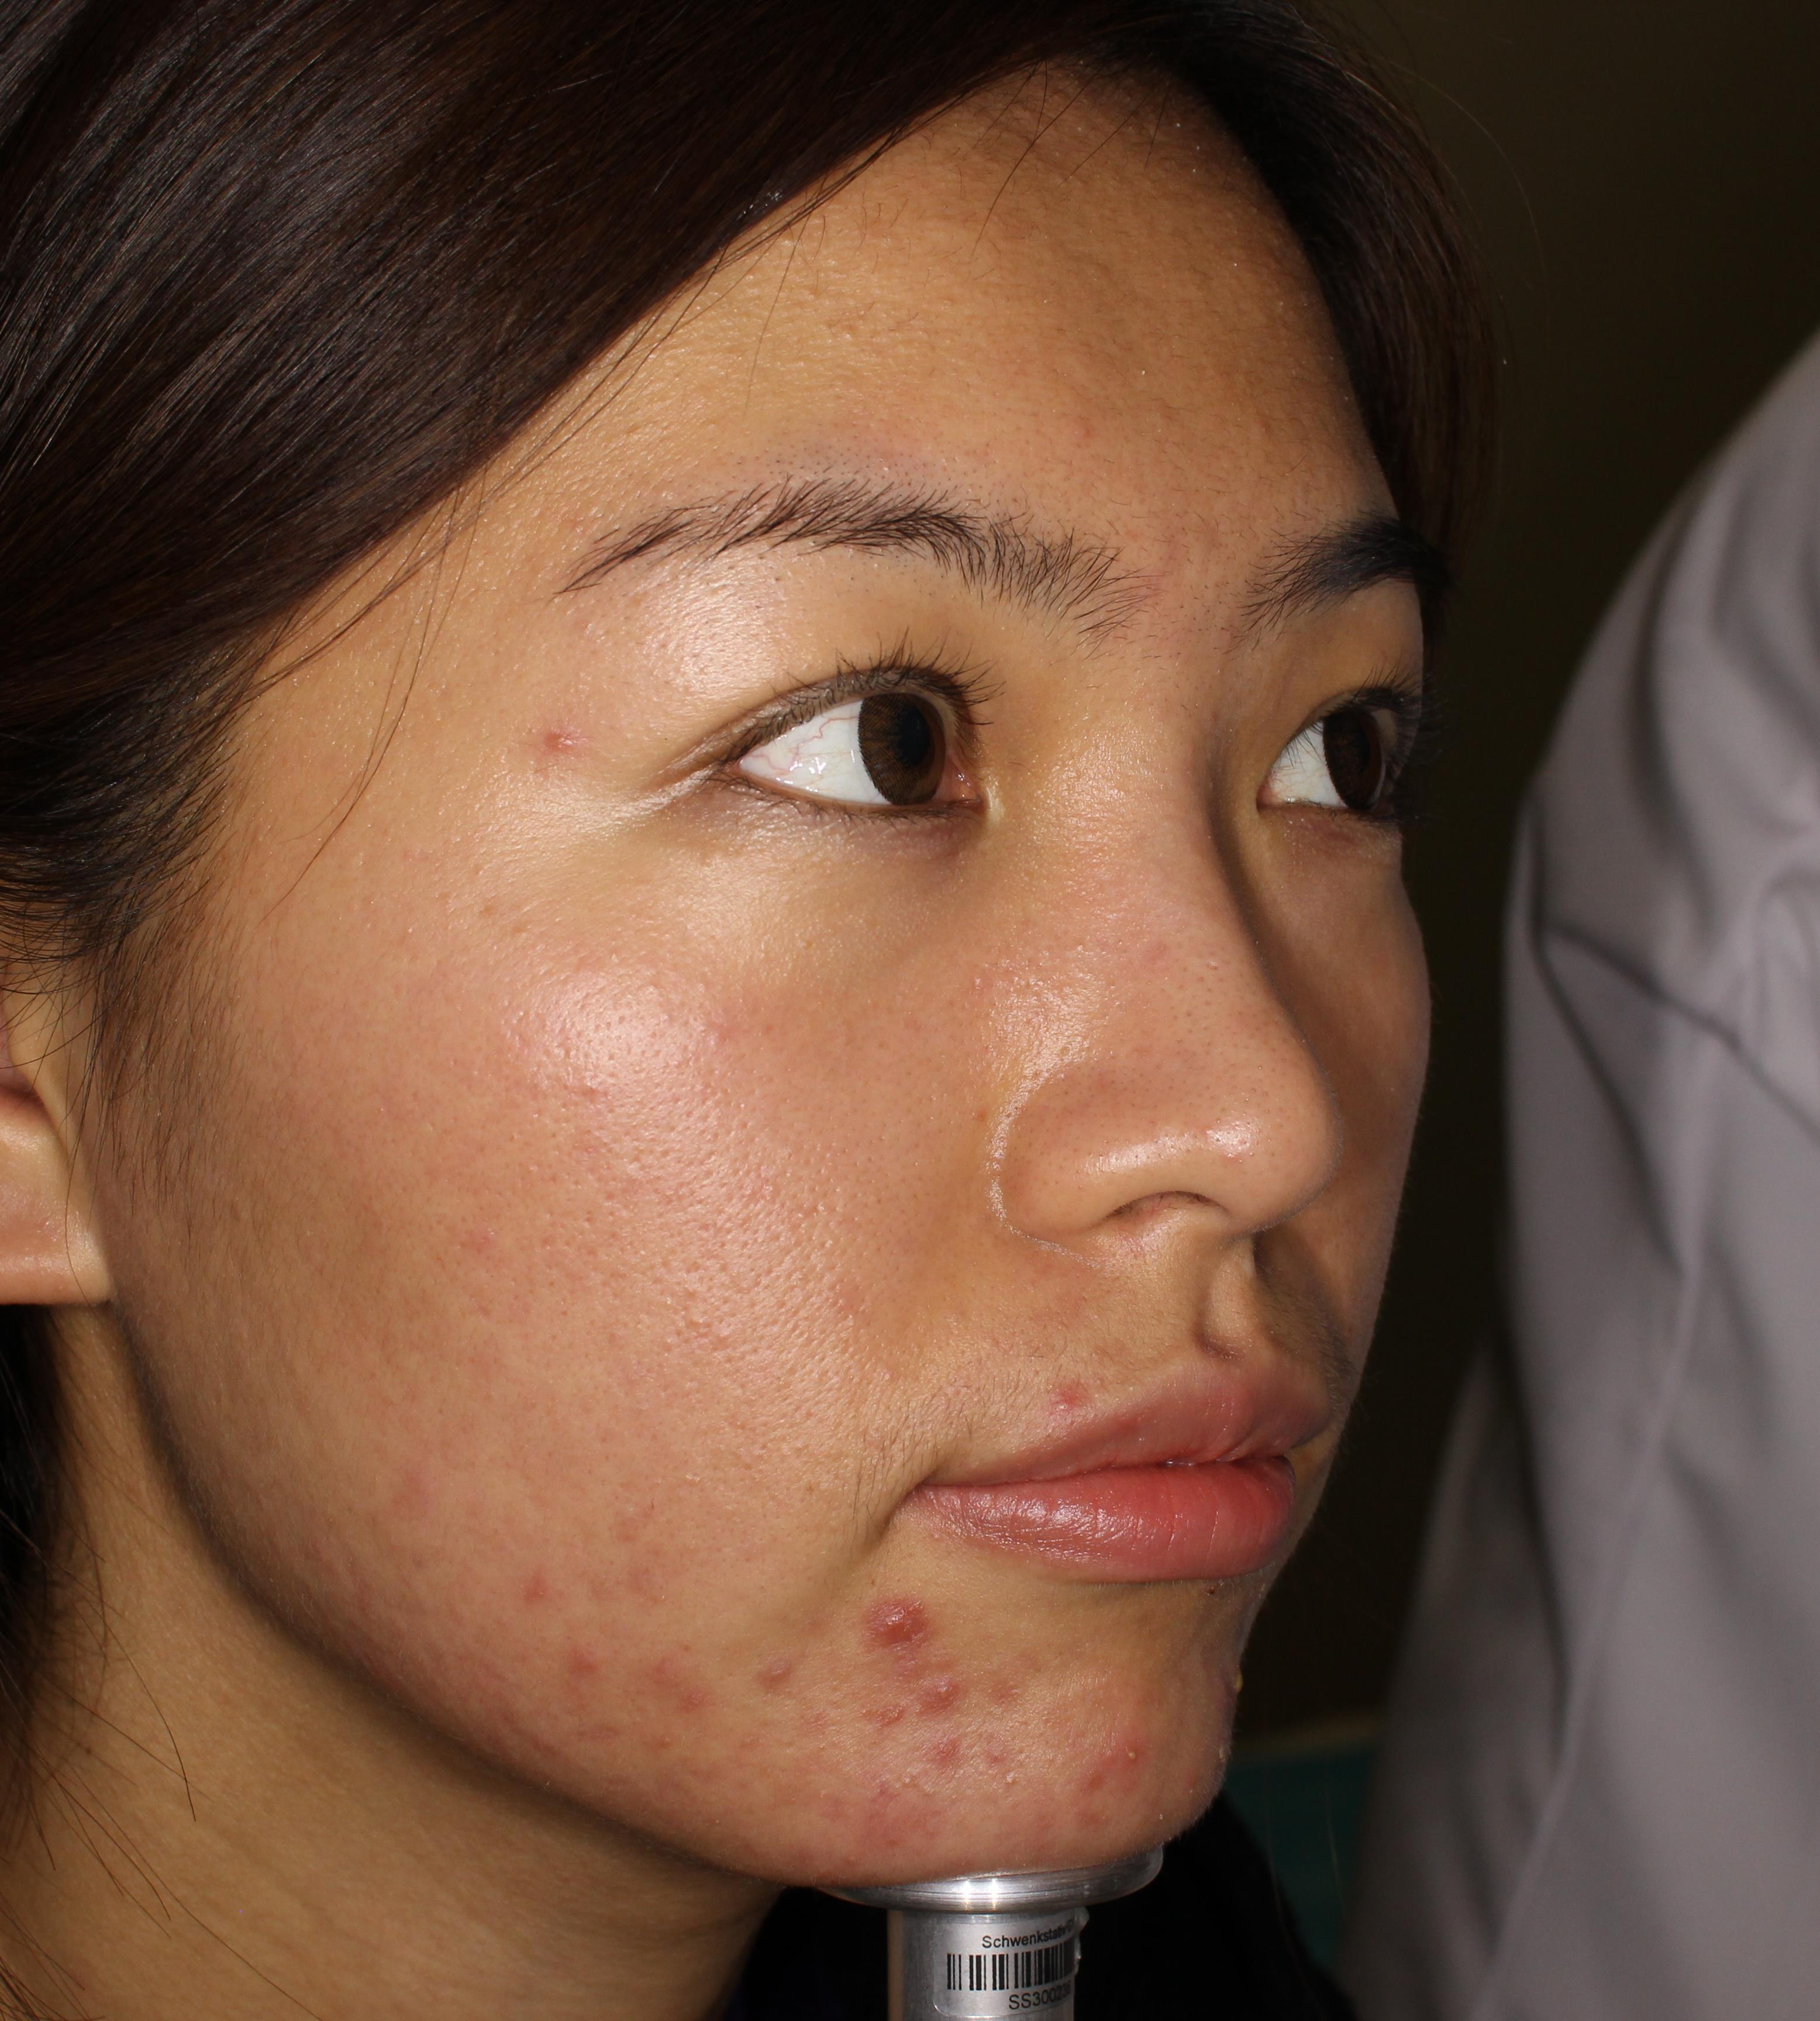fore: (852, 1765, 950, 1866), (534, 1629, 629, 1724), (834, 1571, 929, 1649), (901, 1652, 982, 1737), (643, 1643, 727, 1724), (754, 1635, 817, 1724), (1086, 1724, 1149, 1805), (516, 706, 571, 792)
